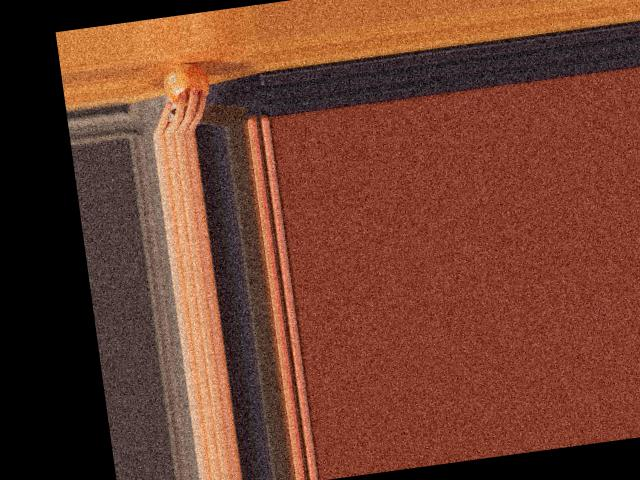onion: (162, 59, 211, 109)
